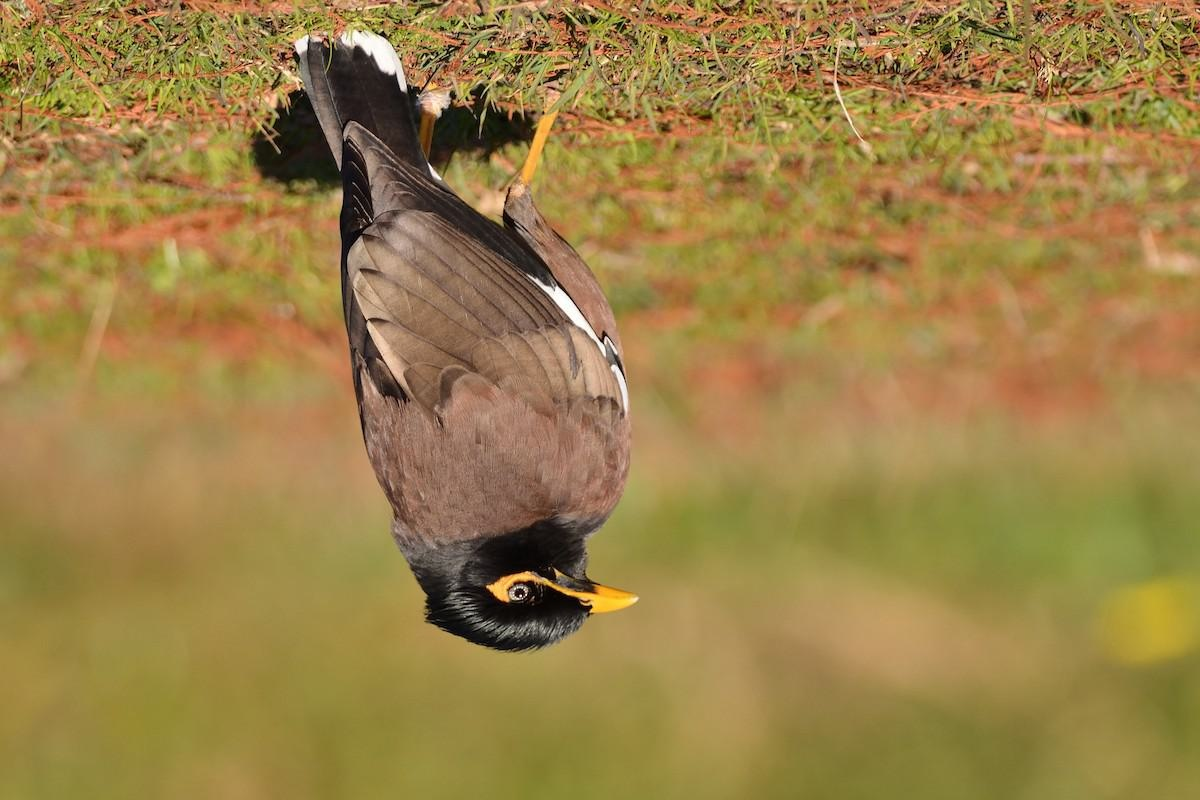myna: (270, 113, 668, 657)
